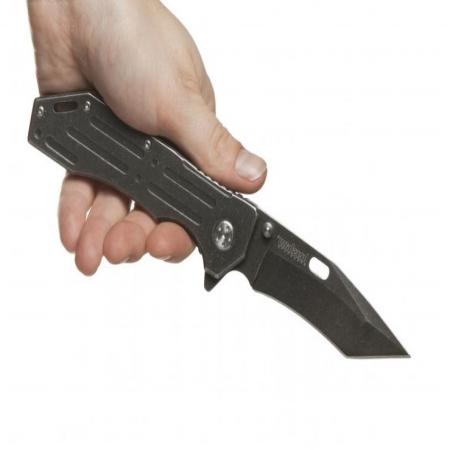long weapon: (131, 116, 422, 378)
